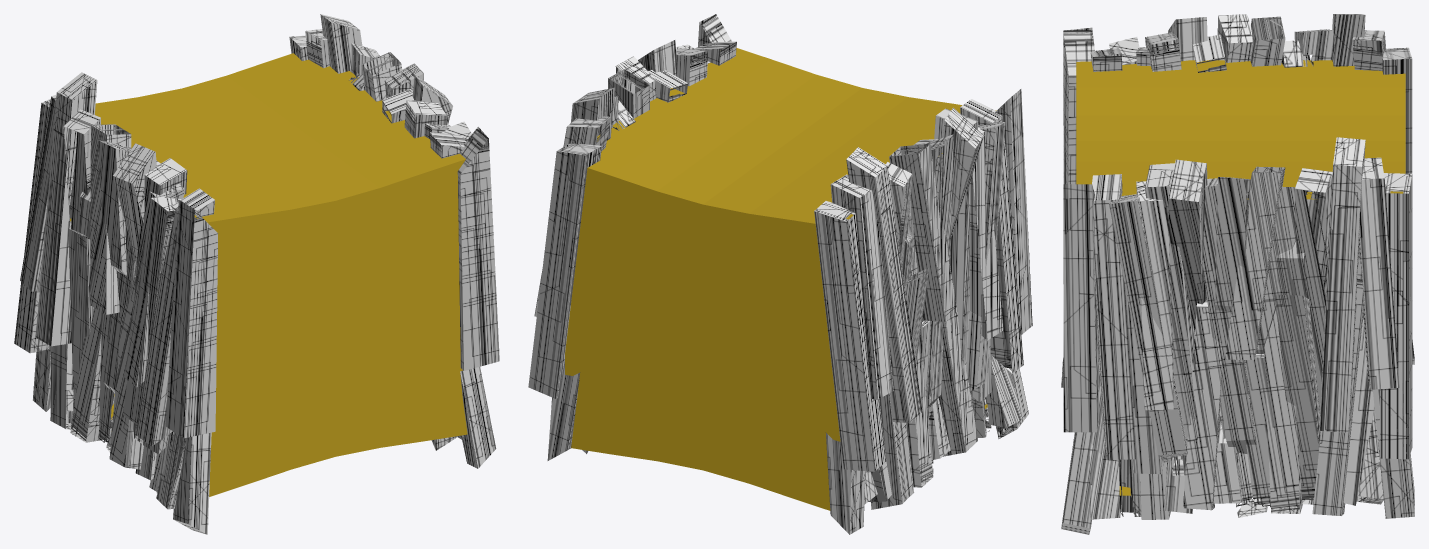
File: plataforma2 quadrado 1unidade.fbx
3 views of the same model, side by side, from view 1: azimuth 30°, elevation 25°; view 2: azimuth 150°, elevation 25°; view 3: azimuth 270°, elevation 25° (orthographic). The views are drawn at different scales.
Parts seen in each view (by area): view 1: Cube.001, Cube; view 2: Cube.001, Cube; view 3: Cube, Cube.001.
Boxes of the visible parts, x1,y1,x2,y2 form: Cube.001: [70, 53, 467, 496]; Cube: [14, 14, 499, 534]; Cube.001: [565, 48, 996, 510]; Cube: [528, 14, 1032, 534]; Cube: [1061, 14, 1414, 534]; Cube.001: [1076, 60, 1405, 495].
Size of the model in its own units: 130 by 130 by 107.
